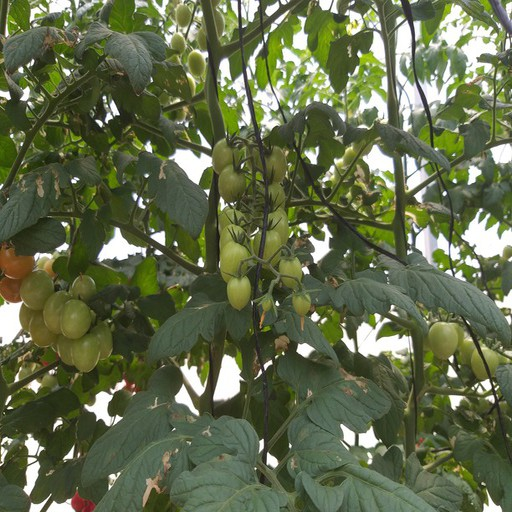green tomato bunch: (214, 138, 312, 315), (1, 244, 114, 374), (151, 1, 226, 124), (419, 311, 512, 382)
